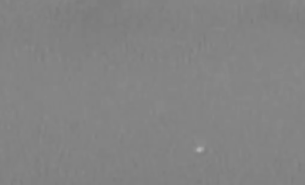Target: (197, 147, 202, 150)
